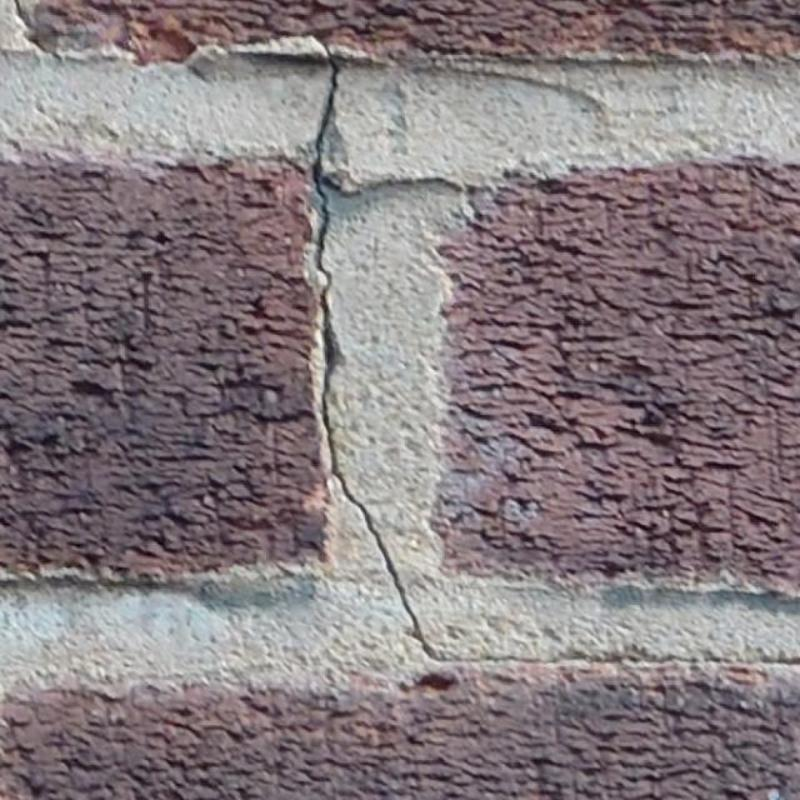pothole: (311, 54, 435, 656), (435, 652, 799, 666), (12, 0, 61, 61)
